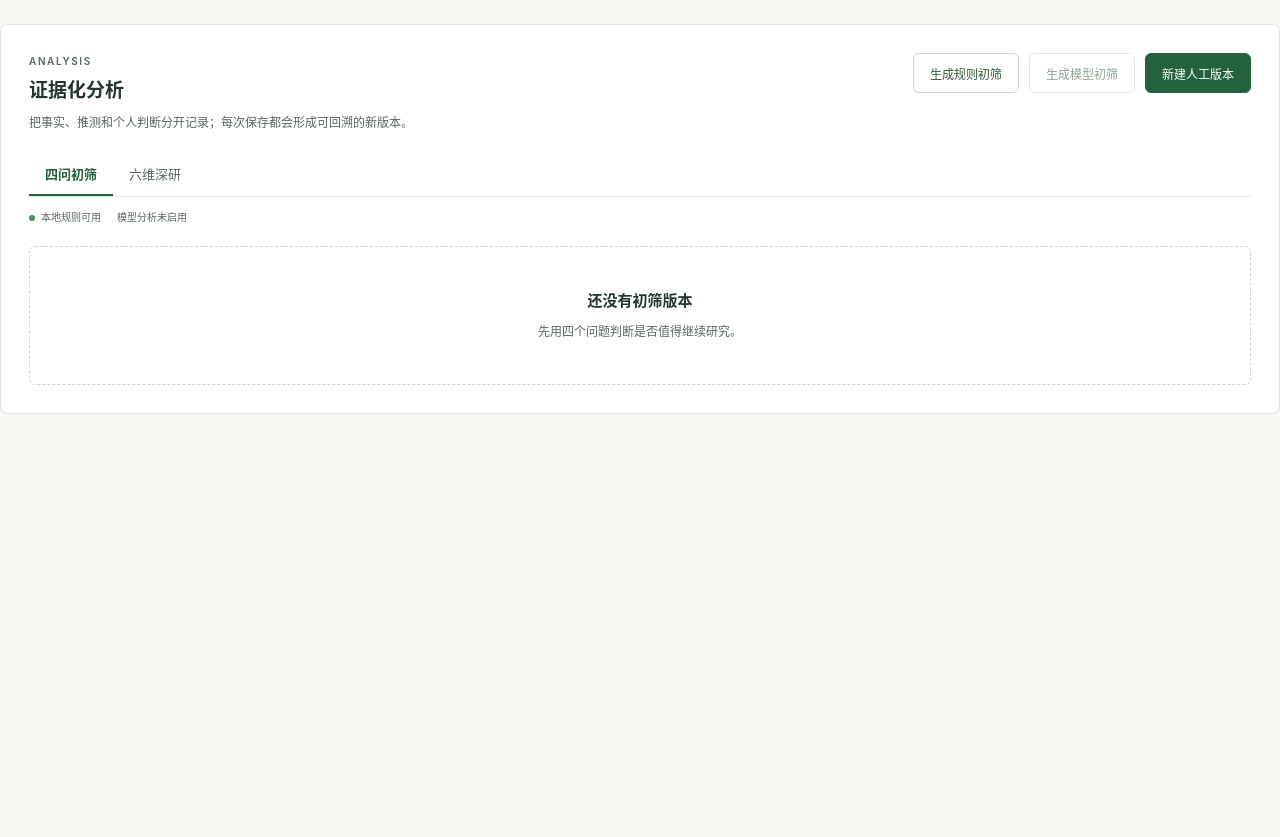
Scenario: AnalysisPanel › names the section and claim of a fact without evidence
Expected: the heading "还没有初筛版本" is shown, [588, 291, 692, 310]
Click the button "新建人工版本" at (1198, 73), box [1145, 53, 1251, 93]
(page scrolled)
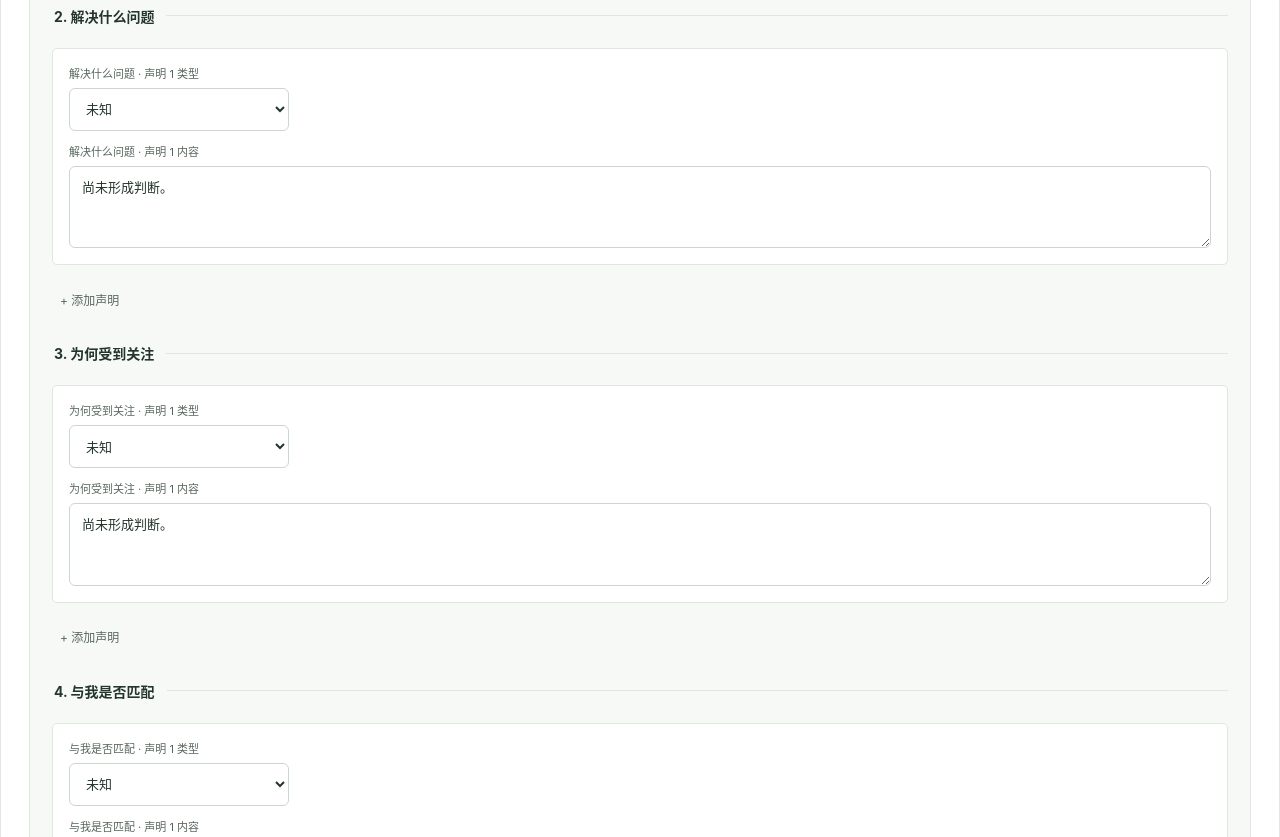
Select "事实" in the dropdown labelled "为何受到关注 · 声明 1 类型" at (179, 447), box [69, 425, 289, 468]
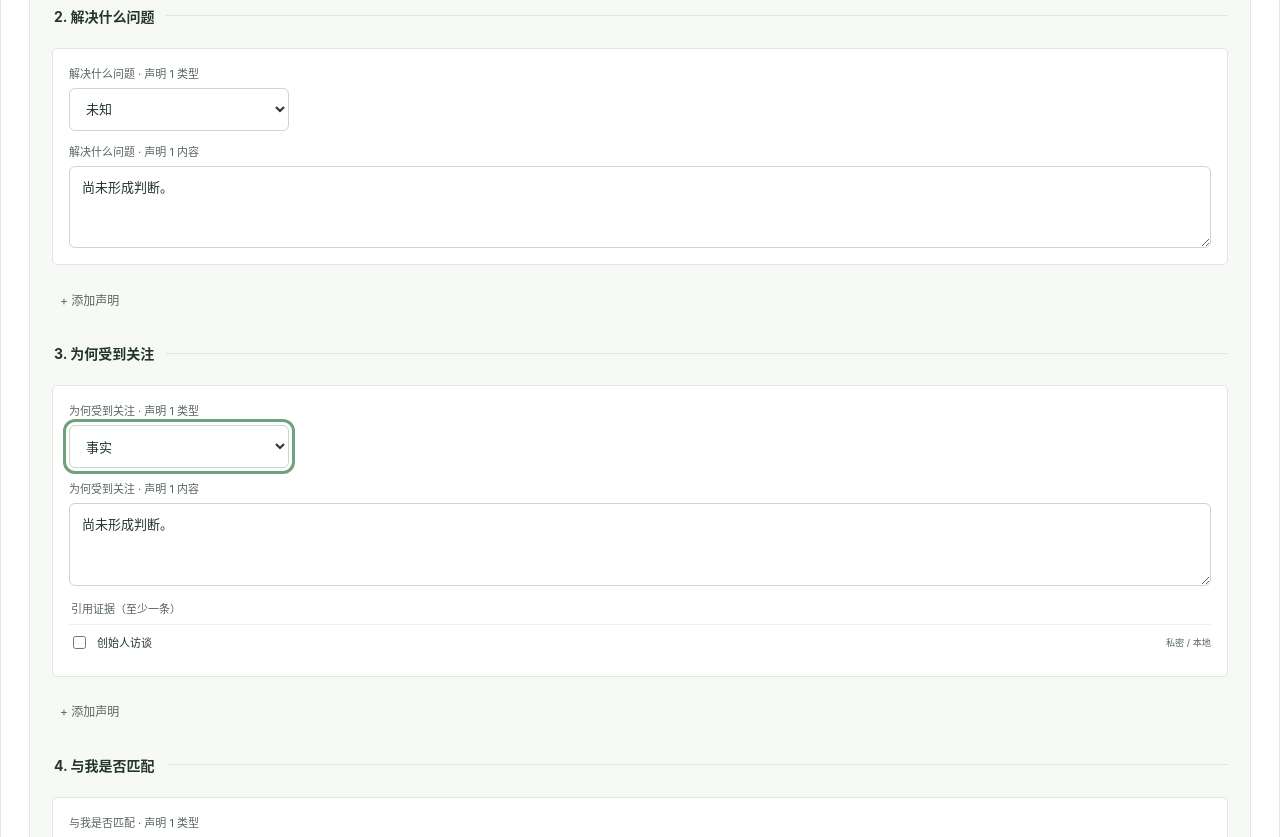
Replace the text in the text box labelled "为何受到关注 · 声明 1 内容" with "近一周 star 翻倍。" at (640, 545), box [69, 503, 1211, 586]
(page scrolled)
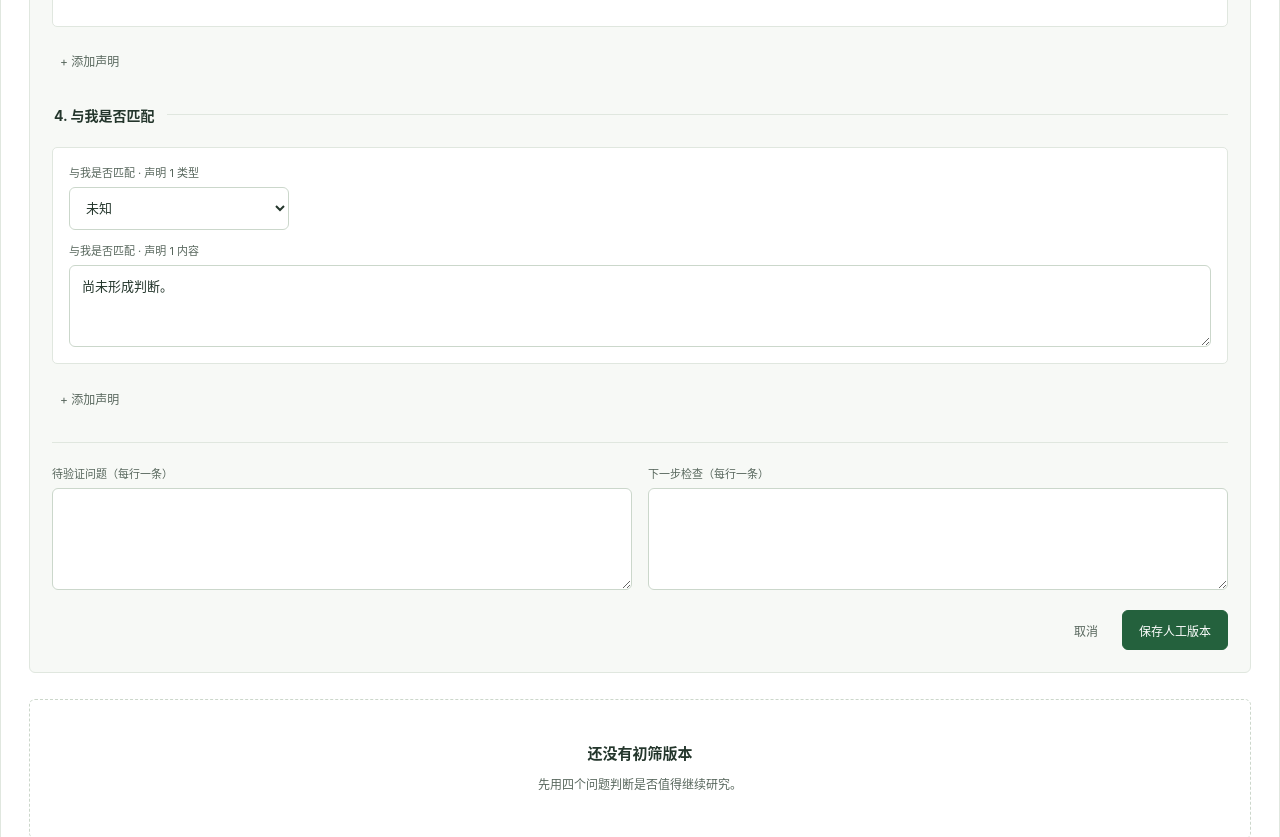
Click the button "保存人工版本" at (1175, 630), box [1122, 610, 1228, 650]
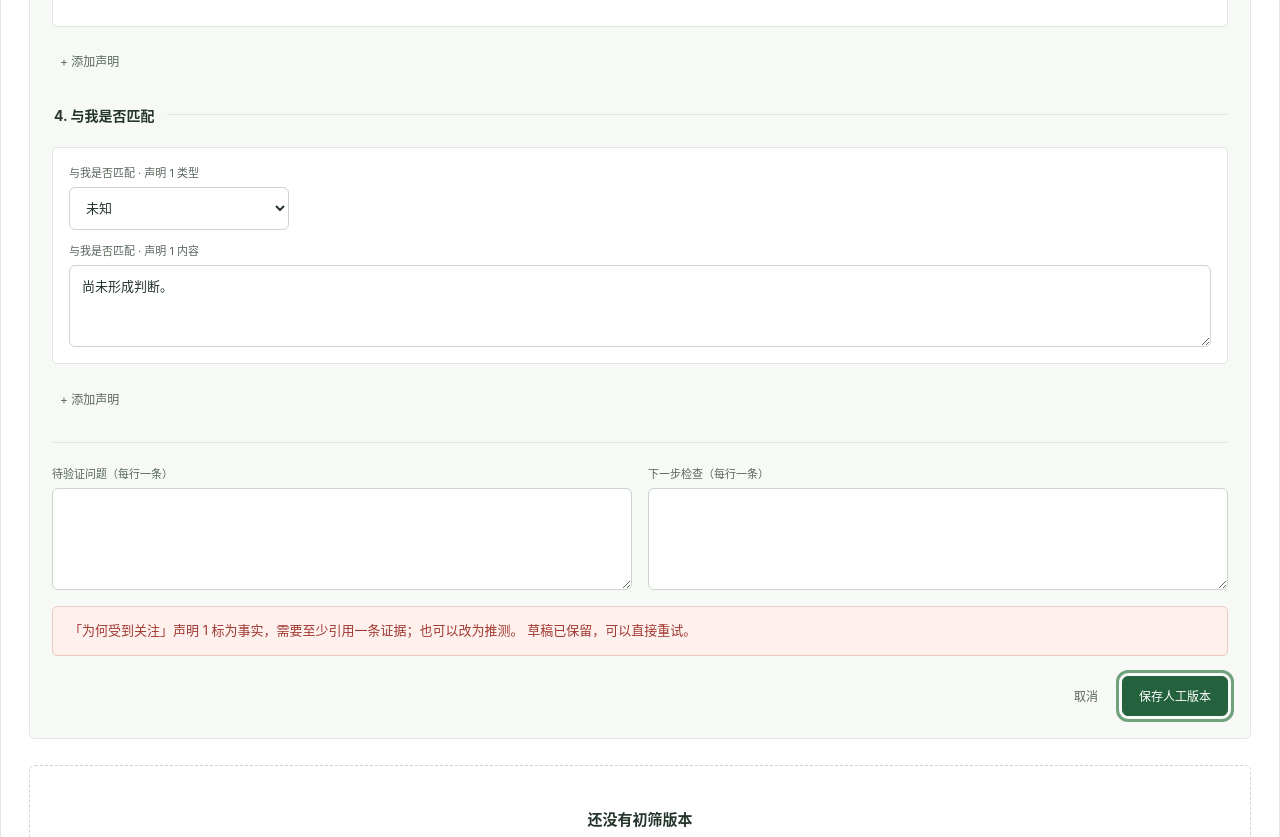
Expected: the message shows "「为何受到关注」声明 1 标为事实，需要至少引用一条证据", [69, 622, 524, 638]
